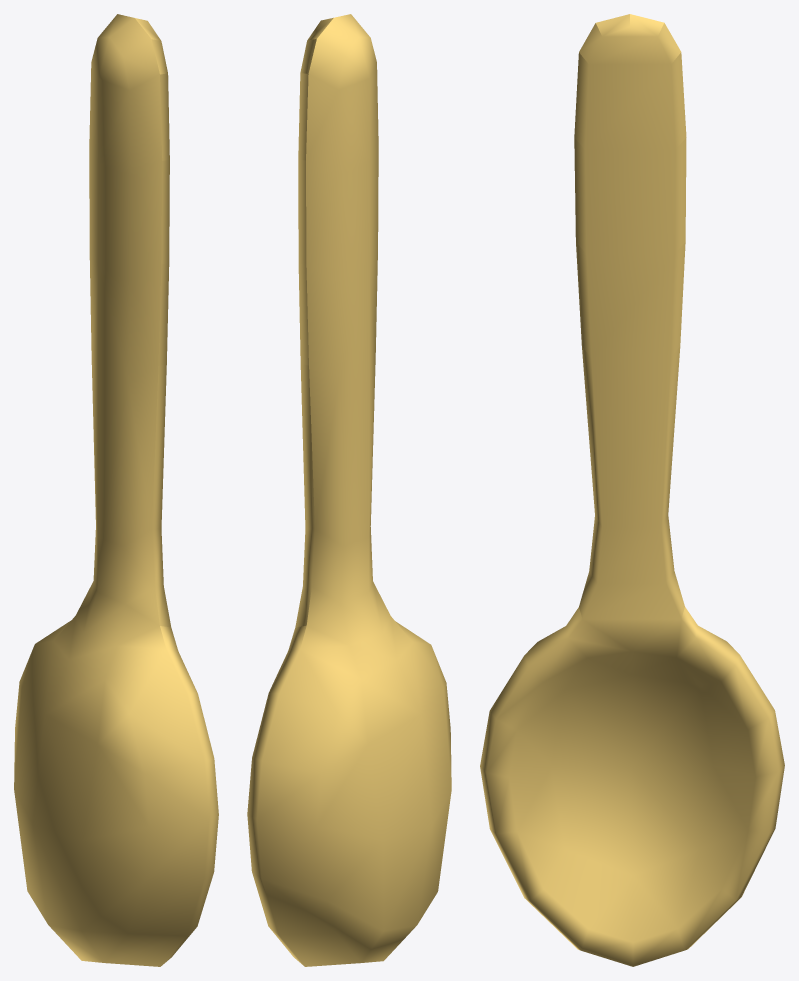
The model's file is SM_Kitchen_Spoon.fbx.
The picture shows the model from 3 angles, left to right: view 1: azimuth 30°, elevation 25°; view 2: azimuth 150°, elevation 25°; view 3: azimuth 270°, elevation 25°; orthographic projection.
Visible parts, largest first — view 1: SM_Kitchen_Spoon; view 2: SM_Kitchen_Spoon; view 3: SM_Kitchen_Spoon.
Part boxes in pixels (left/top/right/bottom): SM_Kitchen_Spoon: left=14, top=14, right=218, bottom=966; SM_Kitchen_Spoon: left=247, top=14, right=451, bottom=966; SM_Kitchen_Spoon: left=480, top=14, right=784, bottom=966.
Bounding box in the file's own units: 0.0307 × 0.2463 × 0.0715.
